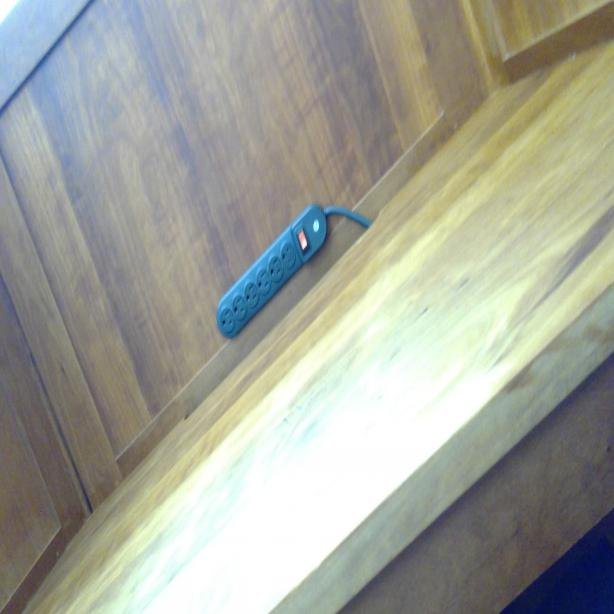typeb: (281, 242, 296, 268), (268, 256, 284, 280), (256, 269, 271, 293), (232, 297, 247, 319), (220, 308, 234, 331), (245, 284, 259, 304)
